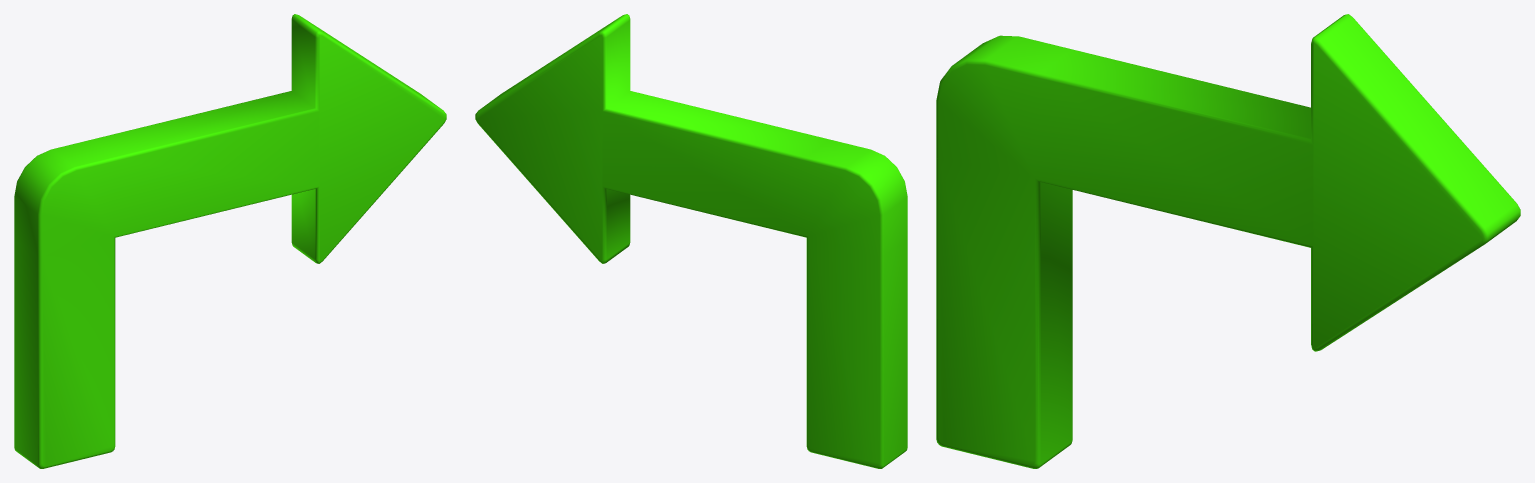
The model's file is asset.glb.
The picture shows the model from 3 angles, left to right: view 1: azimuth 30°, elevation 25°; view 2: azimuth 150°, elevation 25°; view 3: azimuth 330°, elevation 25°; orthographic projection. The views are drawn at different scales.
Visible parts, largest first — view 1: arrow 5; view 2: arrow 5; view 3: arrow 5.
Part boxes in pixels (x1=…): arrow 5: x1=14, y1=14, x2=446, y2=468; arrow 5: x1=475, y1=14, x2=907, y2=468; arrow 5: x1=936, y1=14, x2=1520, y2=468.
Bounding box in the file's own units: 0.964 × 0.8351 × 0.1074.
